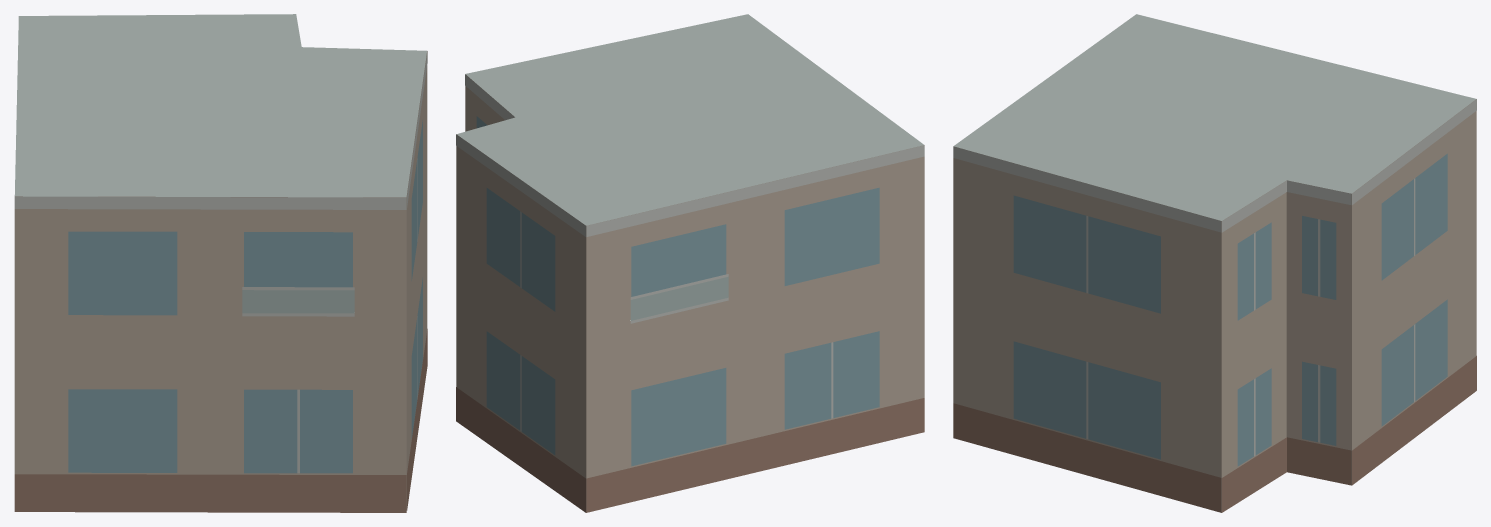
Rendered from survey-upis-32891519.glb.
The picture shows the model from 3 angles, left to right: view 1: azimuth 30°, elevation 25°; view 2: azimuth 150°, elevation 25°; view 3: azimuth 270°, elevation 25°; orthographic projection. The views are drawn at different scales.
Visible parts, largest first — view 1: survey-upis-32891519.tmp; view 2: survey-upis-32891519.tmp; view 3: survey-upis-32891519.tmp.
Part boxes in pixels (left/top/right/bottom): survey-upis-32891519.tmp: left=14, top=14, right=427, bottom=512; survey-upis-32891519.tmp: left=456, top=14, right=924, bottom=512; survey-upis-32891519.tmp: left=953, top=14, right=1476, bottom=512.
Size of the model in its own units: 9.29 by 6.1 by 9.93.
